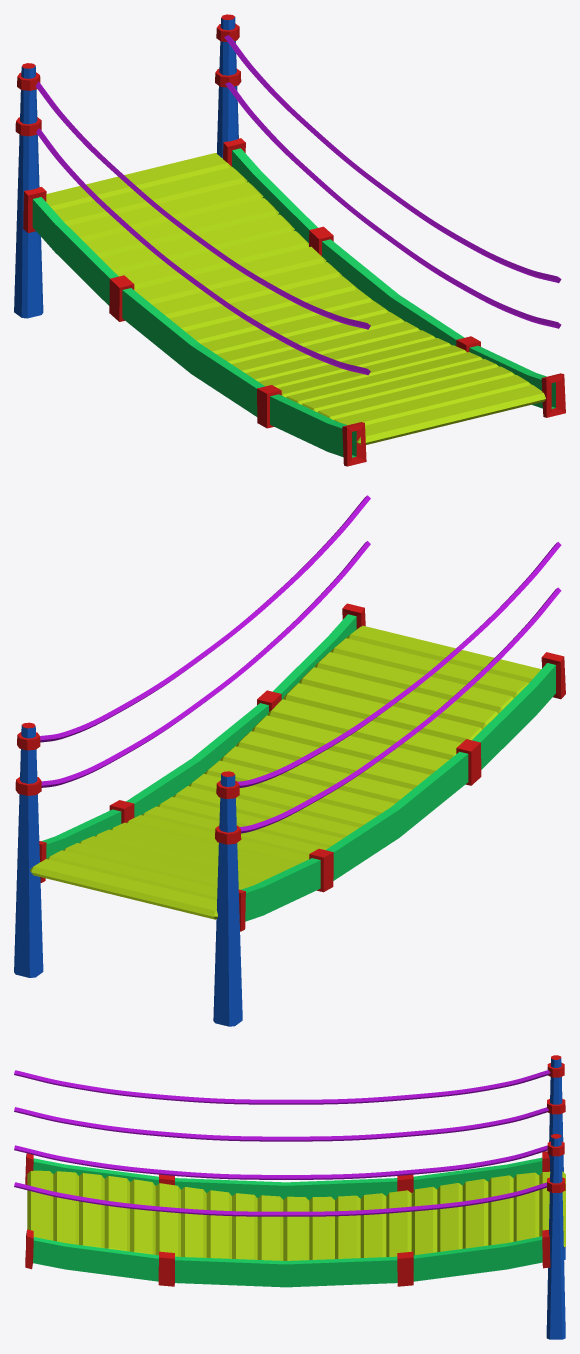
File: bridge.fbx
The picture shows the model from 3 angles, top to bottom: view 1: azimuth 30°, elevation 25°; view 2: azimuth 150°, elevation 25°; view 3: azimuth 270°, elevation 25°; orthographic projection. The views are drawn at different scales.
Parts seen in each view (by area): view 1: Plane; view 2: Plane; view 3: Plane.
Part boxes in pixels (bbox=[...]): Plane: bbox=[14, 14, 565, 466]; Plane: bbox=[14, 495, 565, 1026]; Plane: bbox=[14, 1055, 565, 1339].
Size of the model in its own units: 154 by 164 by 411.
